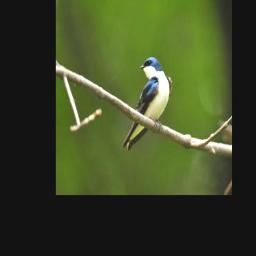Swallow: (121, 55, 173, 151)
